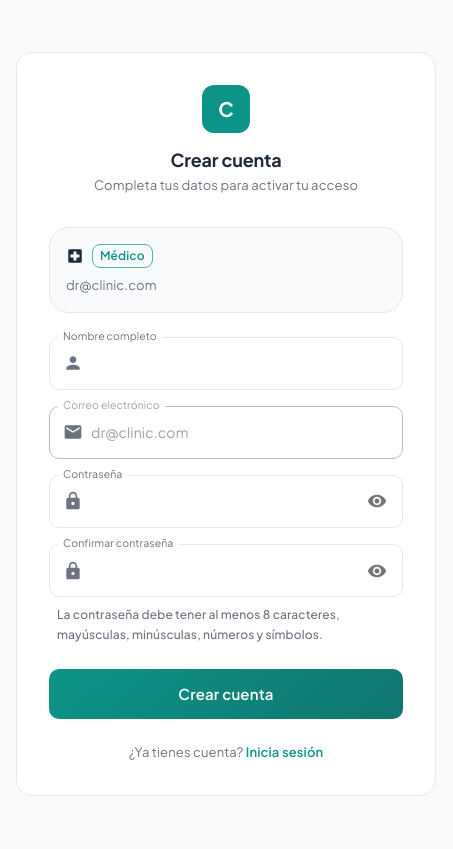
Test: RegisterPage › shows API error message when registration fails
The image size is (453, 849).
Expected: the heading "Crear cuenta" is shown, [170,148,282,171]
Type "Ana Torres" into the field labelled "Nombre completo" at (247, 363), box [91,337,403,390]
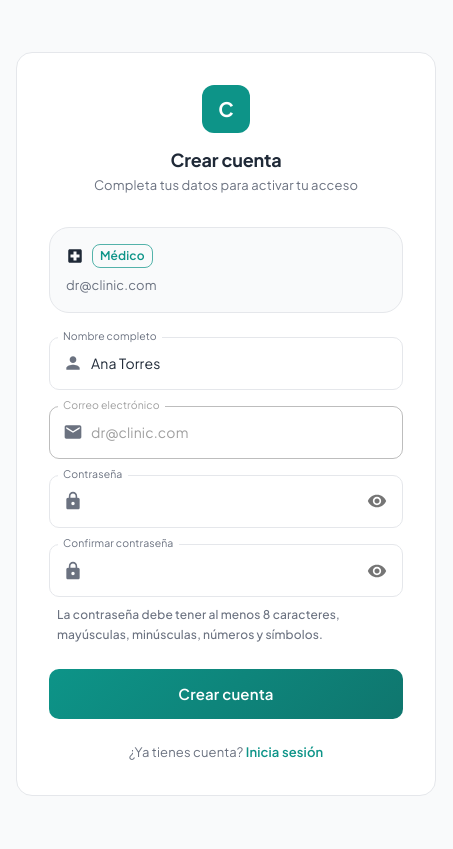
Type "Str0ng!pass" into the password field labelled "Contraseña" at (222, 501), box [91,475,354,528]
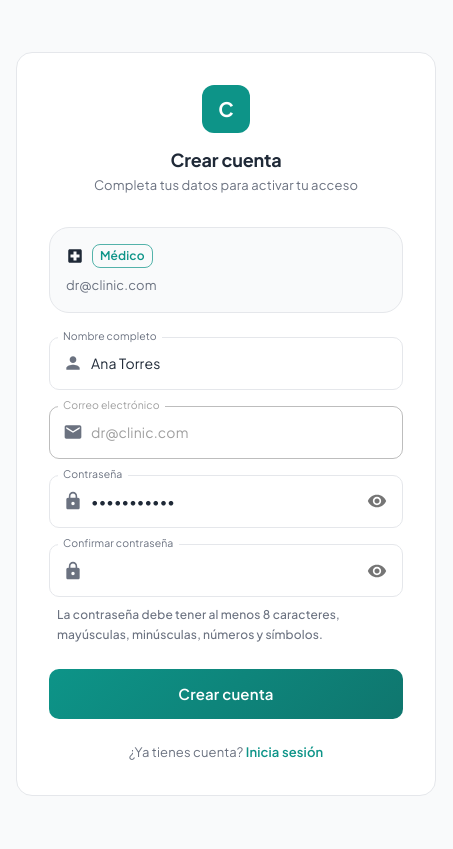
Type "Str0ng!pass" into the password field labelled "Confirmar contraseña" at (222, 571), box [91,544,354,597]
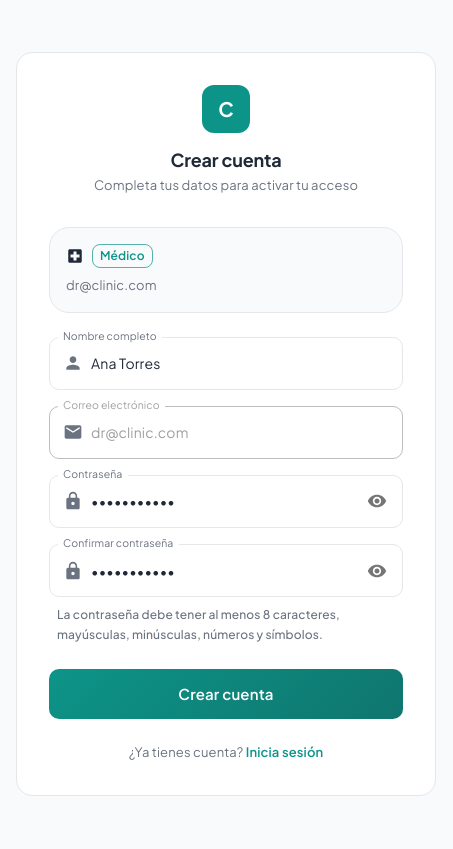
Click the button "Crear cuenta" at (226, 694), box [49,669,403,719]
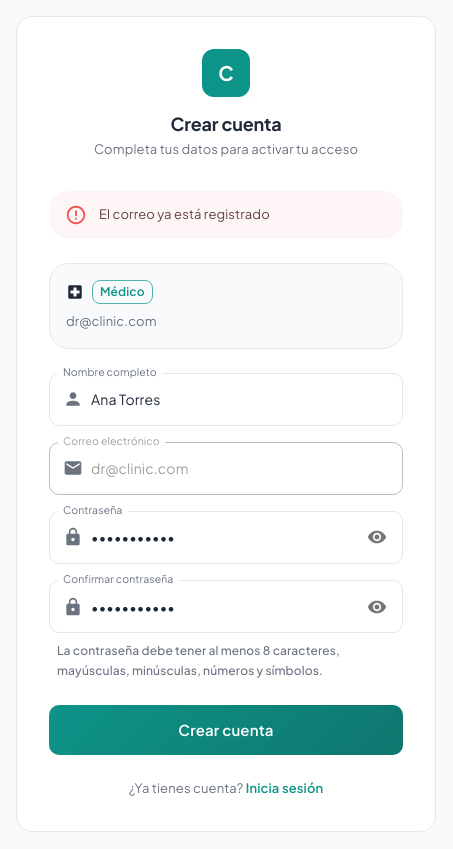
Now the text "El correo ya está registrado" is shown, box [99,206,270,222]
